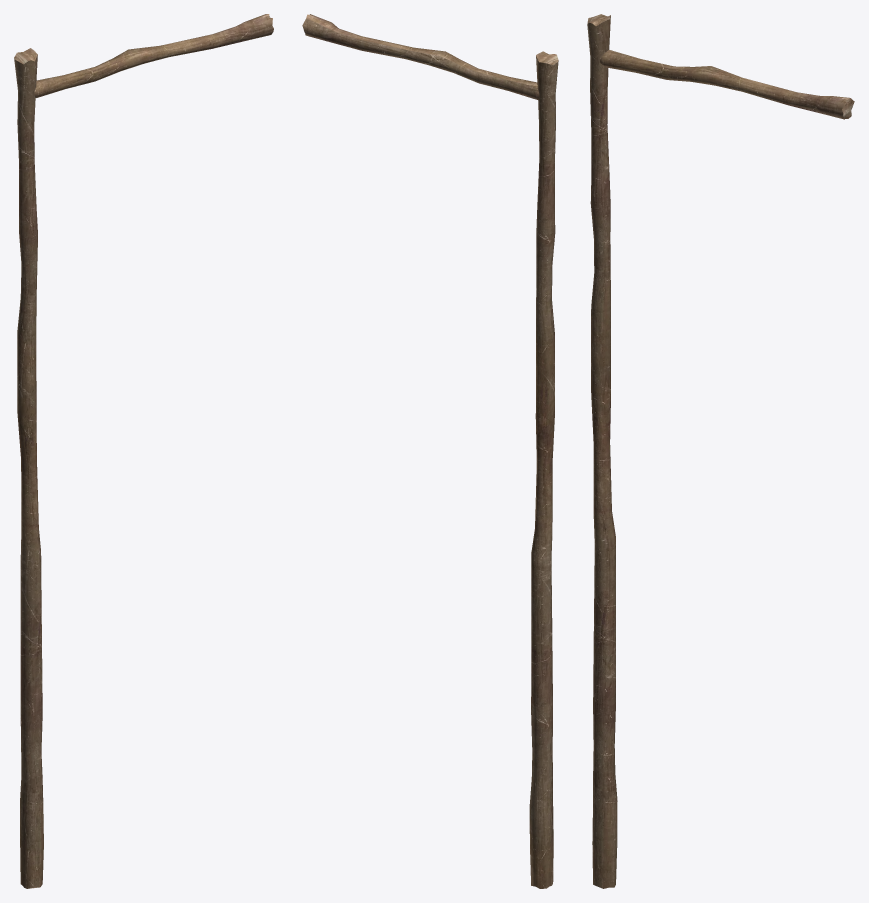
The picture shows the model from 3 angles, left to right: view 1: azimuth 30°, elevation 25°; view 2: azimuth 150°, elevation 25°; view 3: azimuth 330°, elevation 25°; orthographic projection. The views are drawn at different scales.
Visible parts, largest first — view 1: SM_Single_Banner_Frame_01_LOD0; view 2: SM_Single_Banner_Frame_01_LOD0; view 3: SM_Single_Banner_Frame_01_LOD0.
Part boxes in pixels (<box>): SM_Single_Banner_Frame_01_LOD0: <box>14,14,273,888</box>; SM_Single_Banner_Frame_01_LOD0: <box>302,14,558,888</box>; SM_Single_Banner_Frame_01_LOD0: <box>587,14,854,888</box>.
Size of the model in its own units: 1.39 by 4.39 by 0.1182.
1 material, 1 textured.
